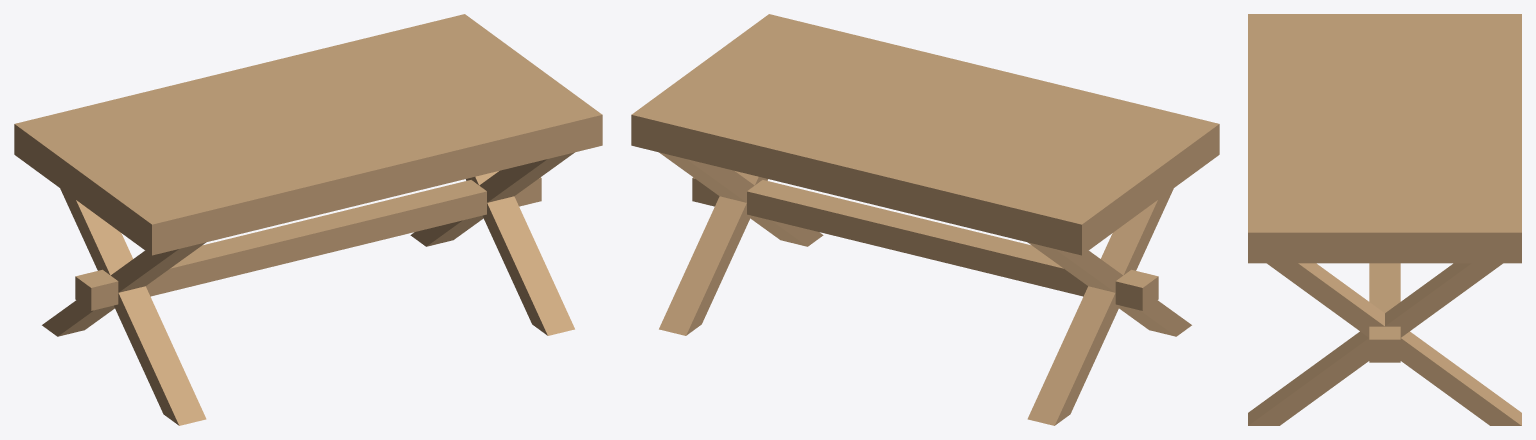
File: table-dining-trestle.glb
3 renders of one model, left to right at view 1: azimuth 30°, elevation 25°; view 2: azimuth 150°, elevation 25°; view 3: azimuth 270°, elevation 25°, orthographic.
Visible parts, largest first — view 1: table-dining-trestle; view 2: table-dining-trestle; view 3: table-dining-trestle.
Boxes of the visible parts, box(x1,y1,x2,y2) form: table-dining-trestle: box(14, 14, 602, 425); table-dining-trestle: box(631, 14, 1219, 425); table-dining-trestle: box(1248, 14, 1521, 425).
Size of the model in its own units: 1.7 by 0.75 by 0.9.
